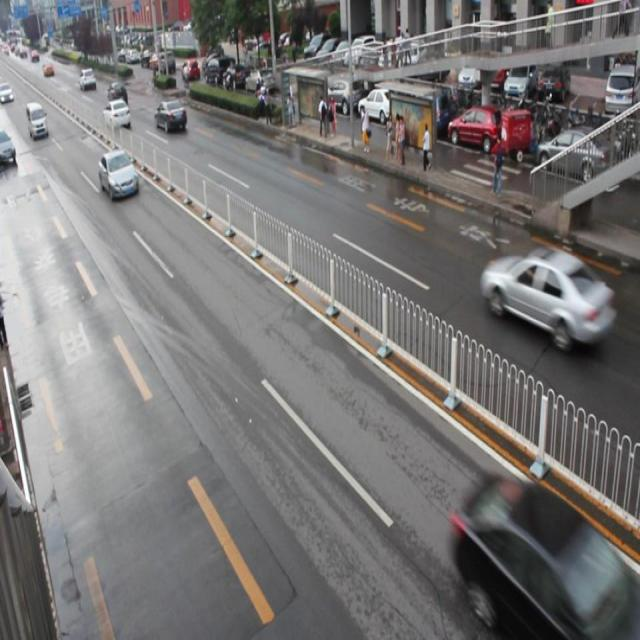car: (450, 469, 640, 639), (480, 244, 612, 345), (100, 148, 140, 198), (154, 98, 188, 133), (105, 98, 130, 130), (108, 80, 130, 112)
